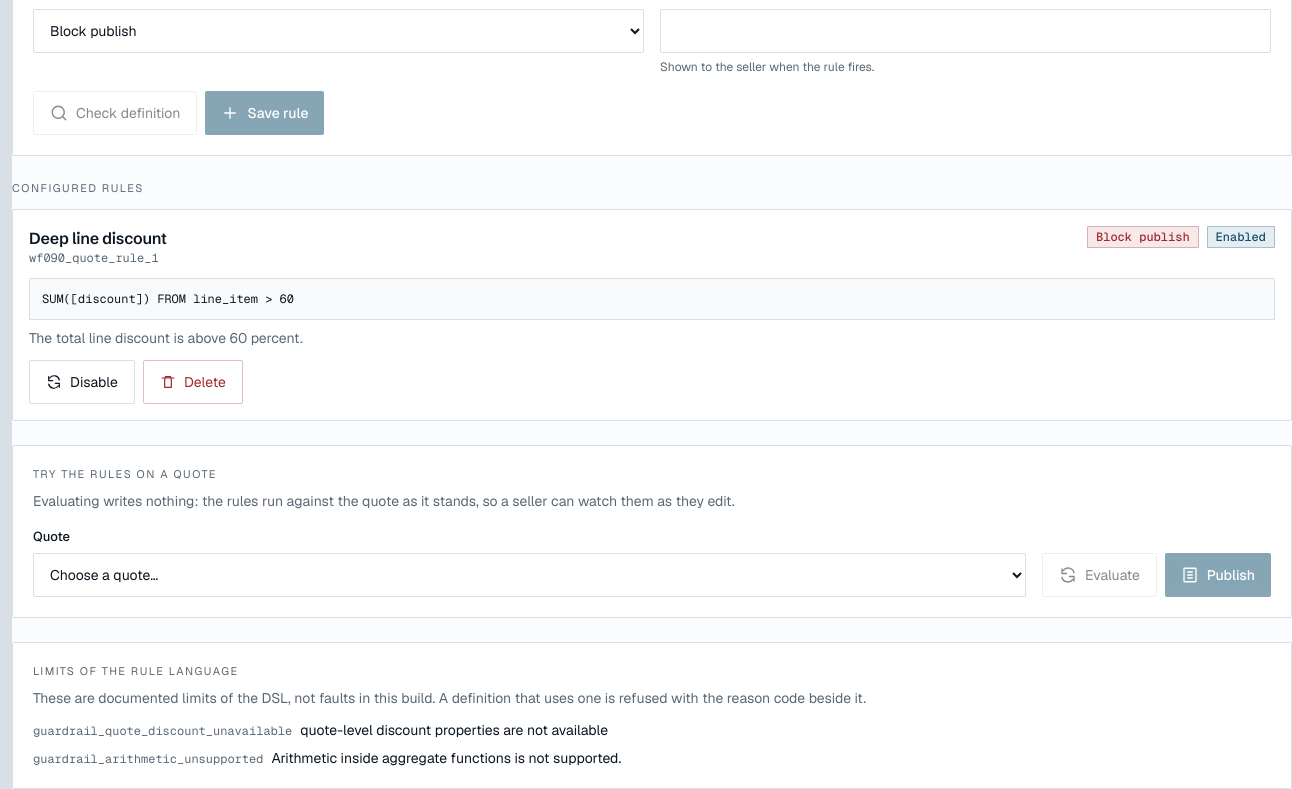
the page › renders a blocked publish as the gate working, naming the rule
(page scrolled)
Select "Northwind renewal" in the dropdown labelled "Quote" at (530, 575), box x1=33 y1=553 x2=1026 y2=597
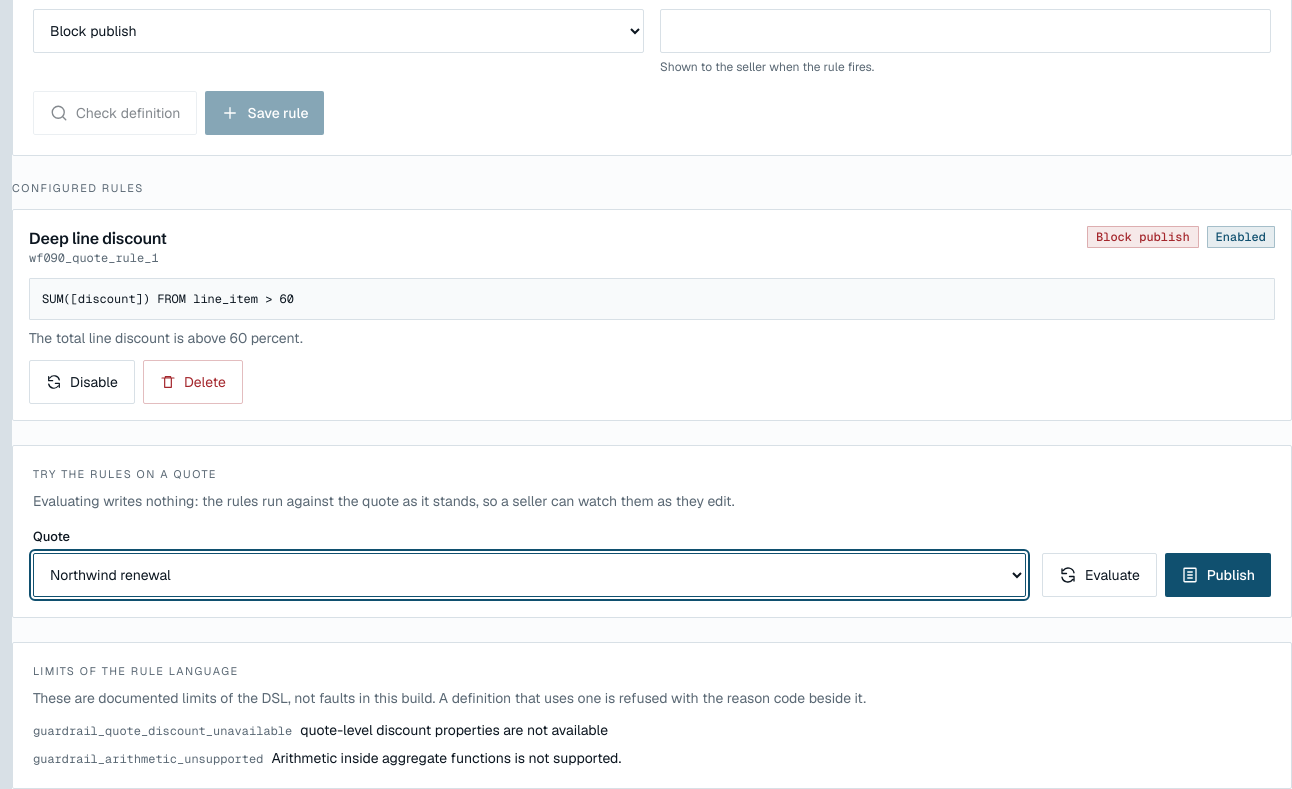
Click the button "Publish".
click(1218, 575)  # box x1=1165 y1=553 x2=1271 y2=597
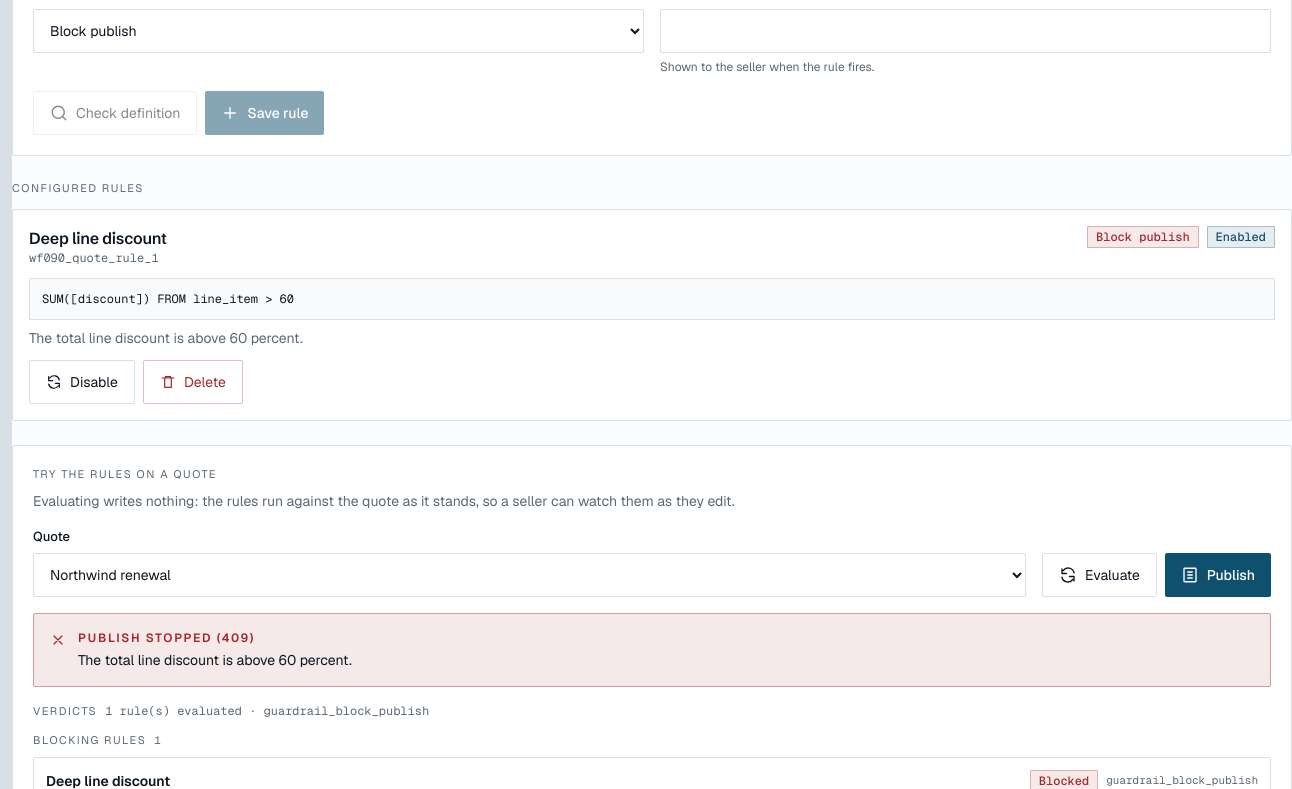
Expected: the text "The total line discount is above 60 percent." below "wf090_quote_rule_1" is shown, x1=29 y1=329 x2=303 y2=347
Now the text "Publish stopped (409)" is shown, box x1=78 y1=630 x2=255 y2=646
